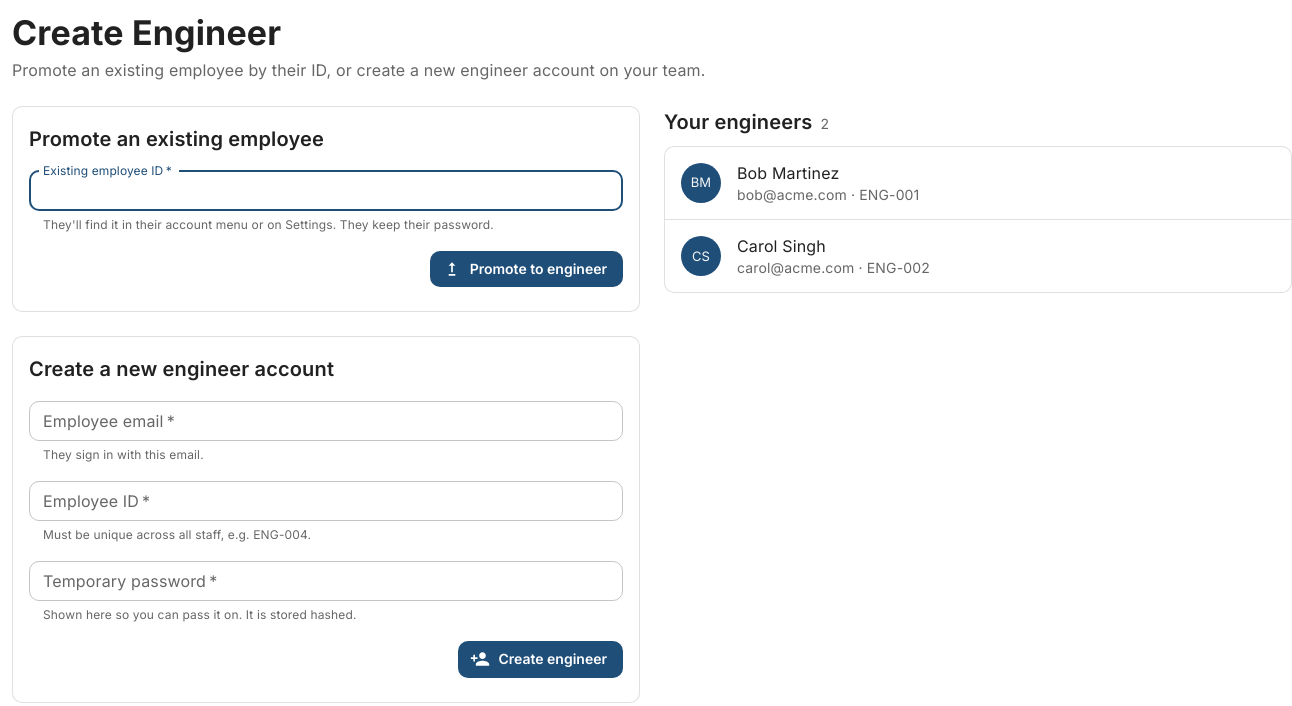
it: CreateEngineerPage against the real backend › shows a refusal from the backend until the temporary password is edited
The image size is (1292, 706).
Expected: the text "Bob Martinez" is shown, x1=737 y1=163 x2=839 y2=183
Type "new.eng@acme.inc" into the field labelled "Employee email *". click: (326, 421)
box: x1=29 y1=401 x2=623 y2=441
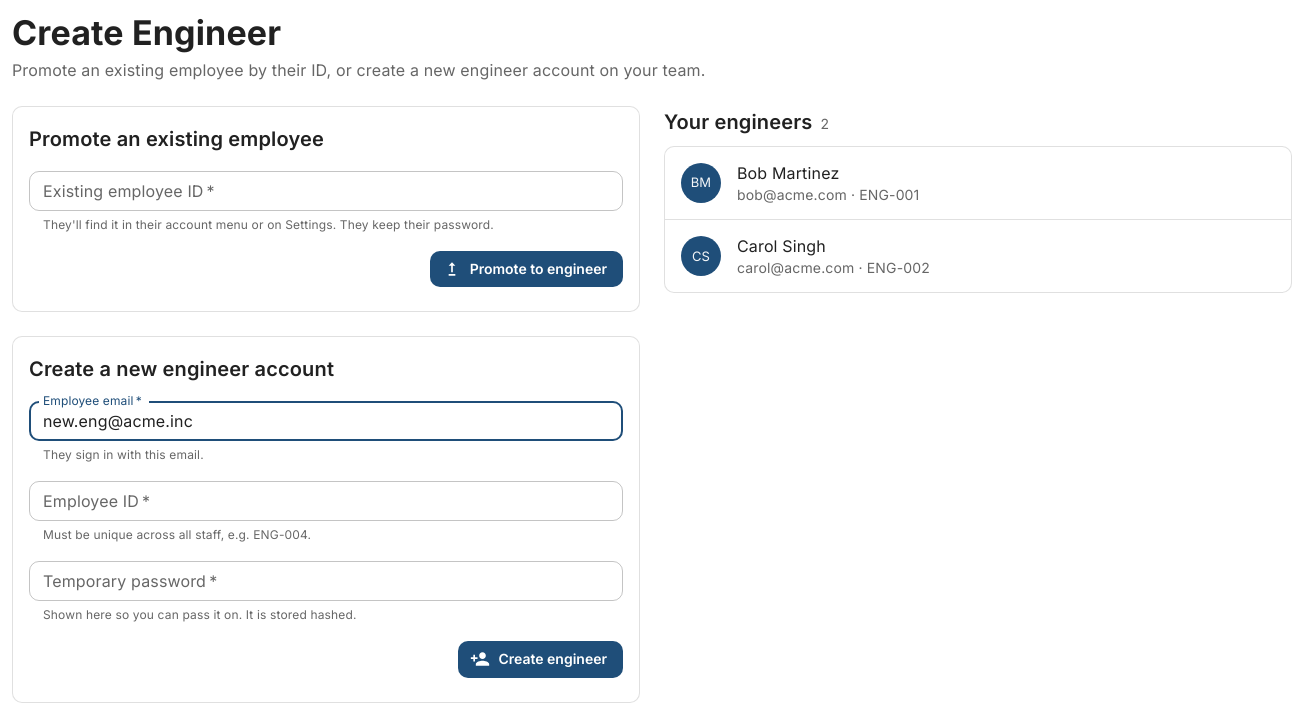
Type "ENG-004" into the field labelled "Employee ID *". click: (326, 501)
box: x1=29 y1=481 x2=623 y2=521
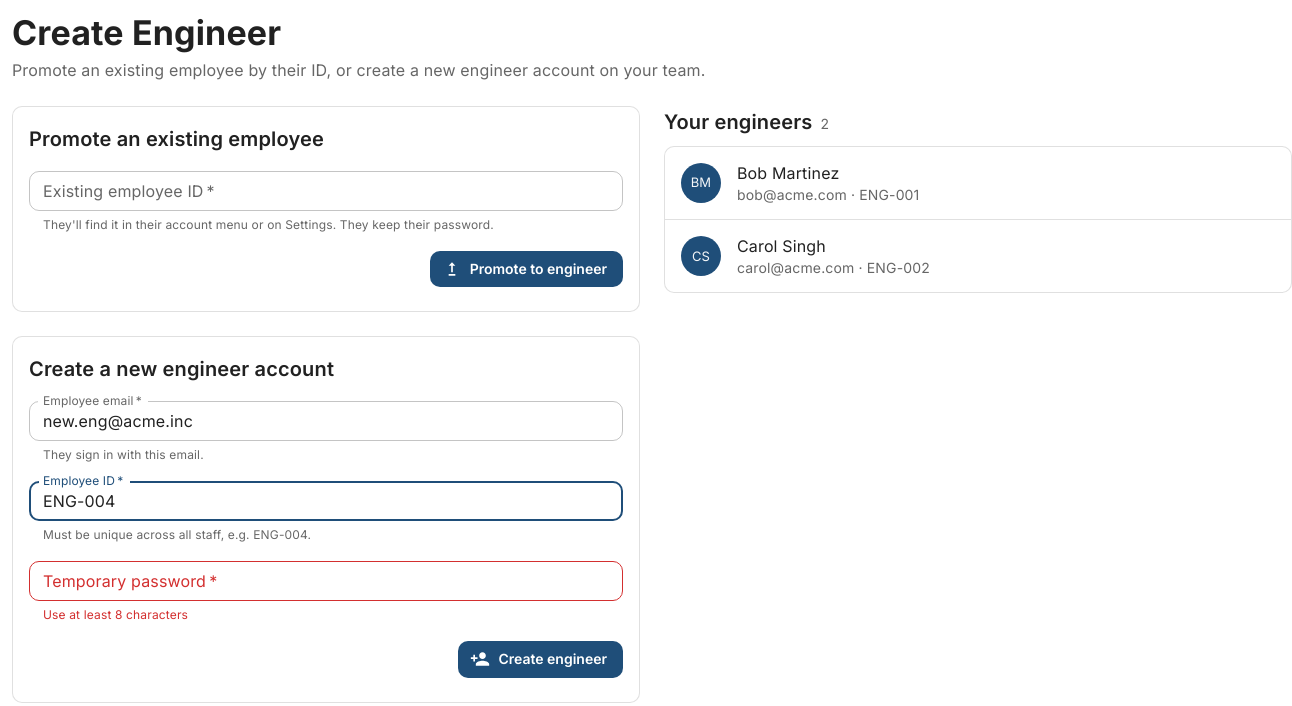
Type "temp-pass-1" into the field labelled "Temporary password *". click: (326, 581)
box: x1=29 y1=561 x2=623 y2=601
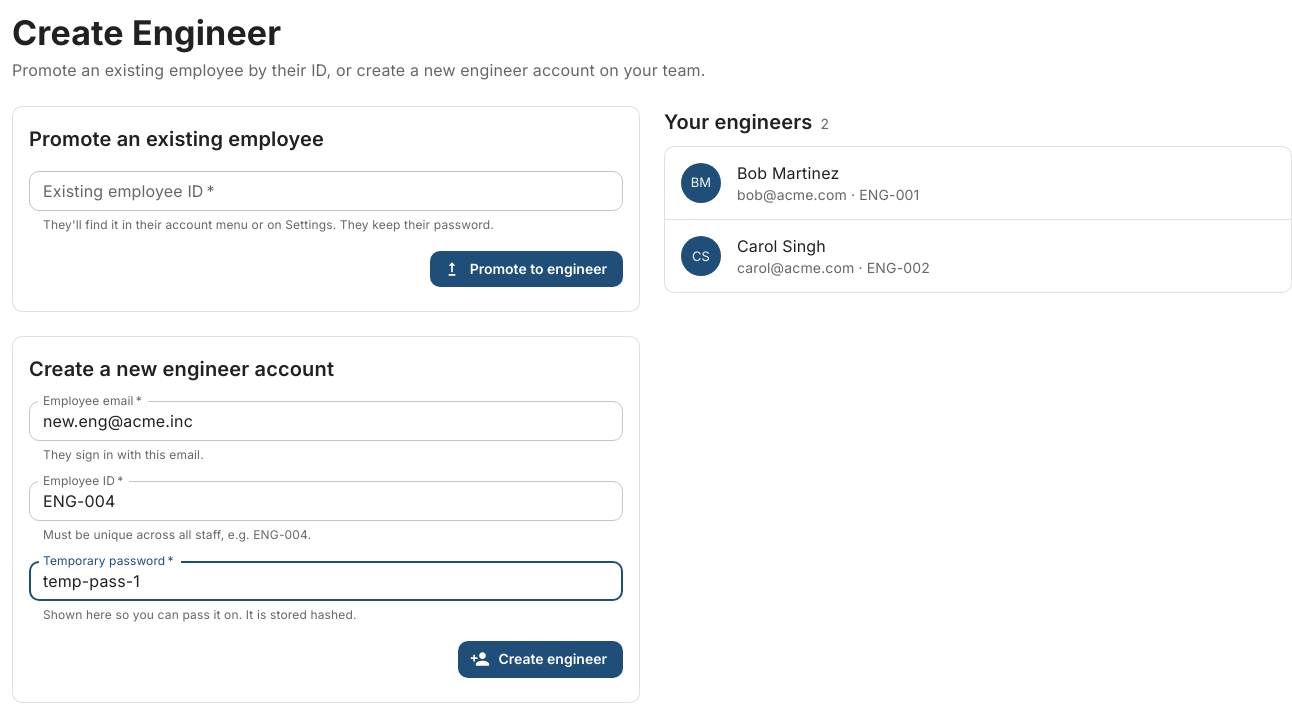
Click the button "Create engineer". click: (541, 659)
box: x1=458 y1=641 x2=623 y2=678
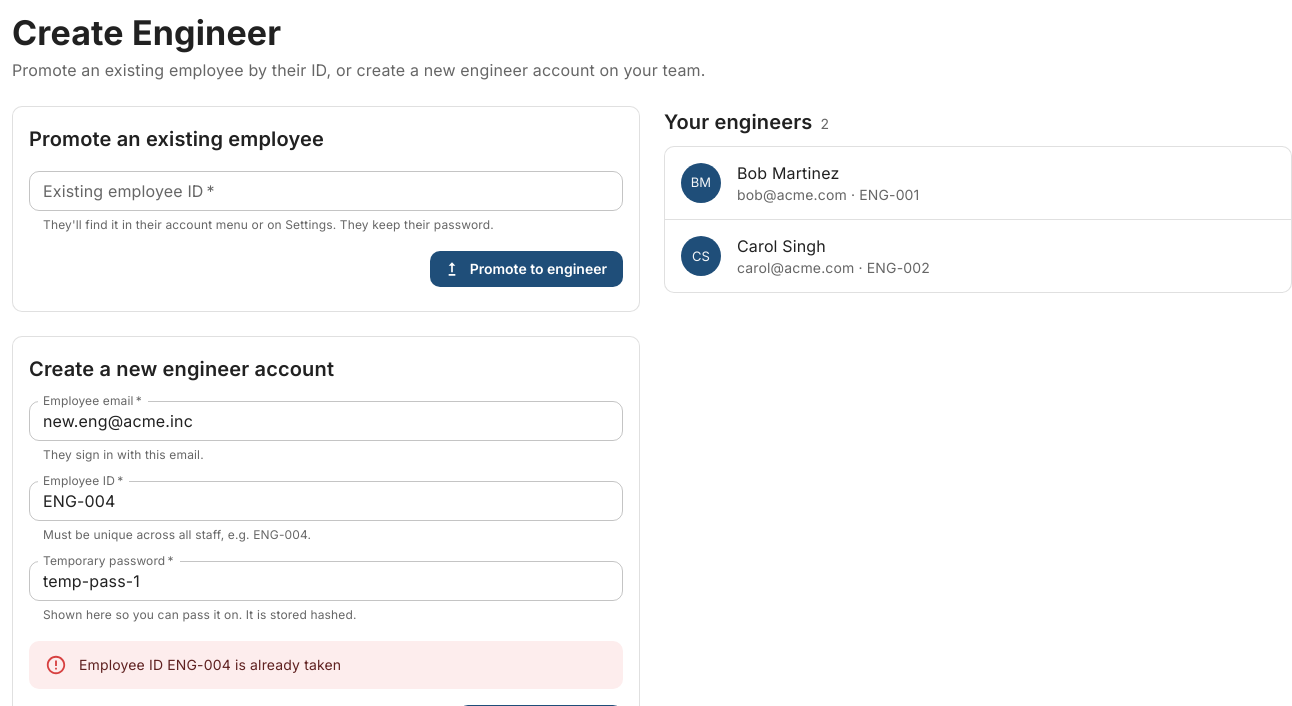
Expected: the text "Employee ID ENG-004 is already taken" is shown, x1=79 y1=656 x2=341 y2=673
Type "5" into the field labelled "Temporary password *". click: (326, 581)
box: x1=29 y1=561 x2=623 y2=601
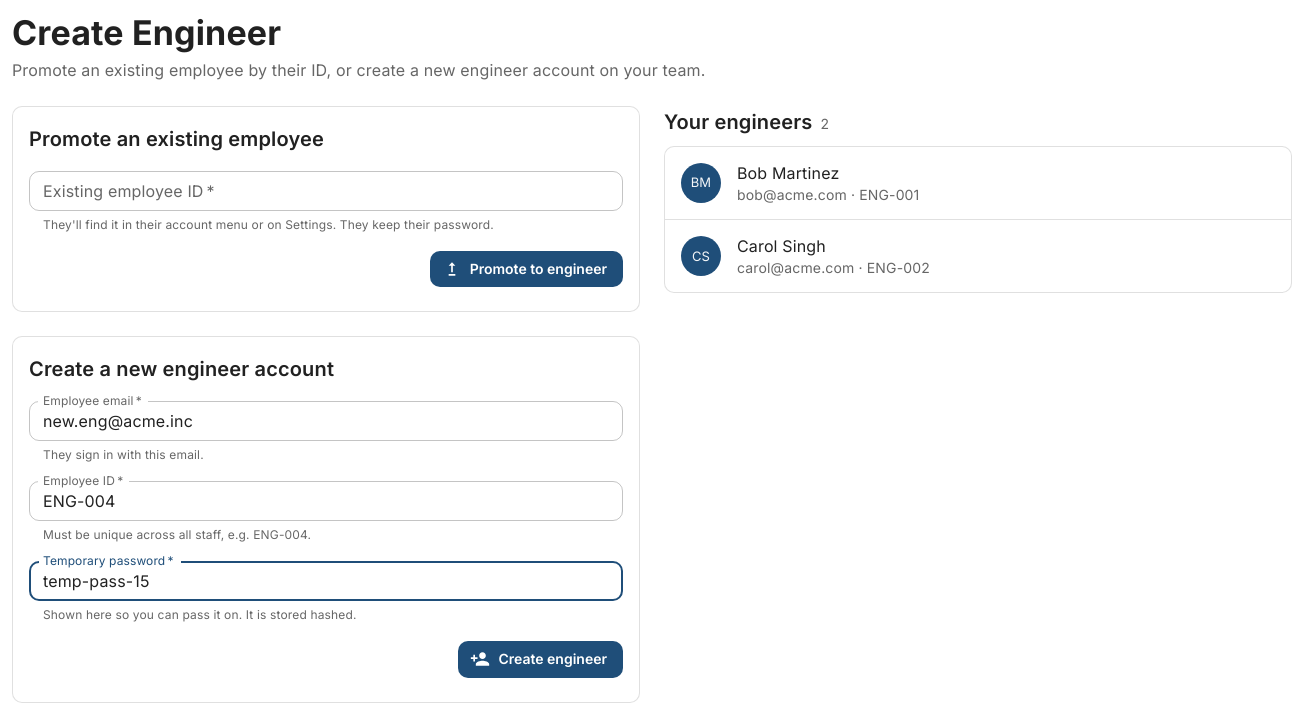
Expected: the text "Employee ID ENG-004 is already taken" is gone
